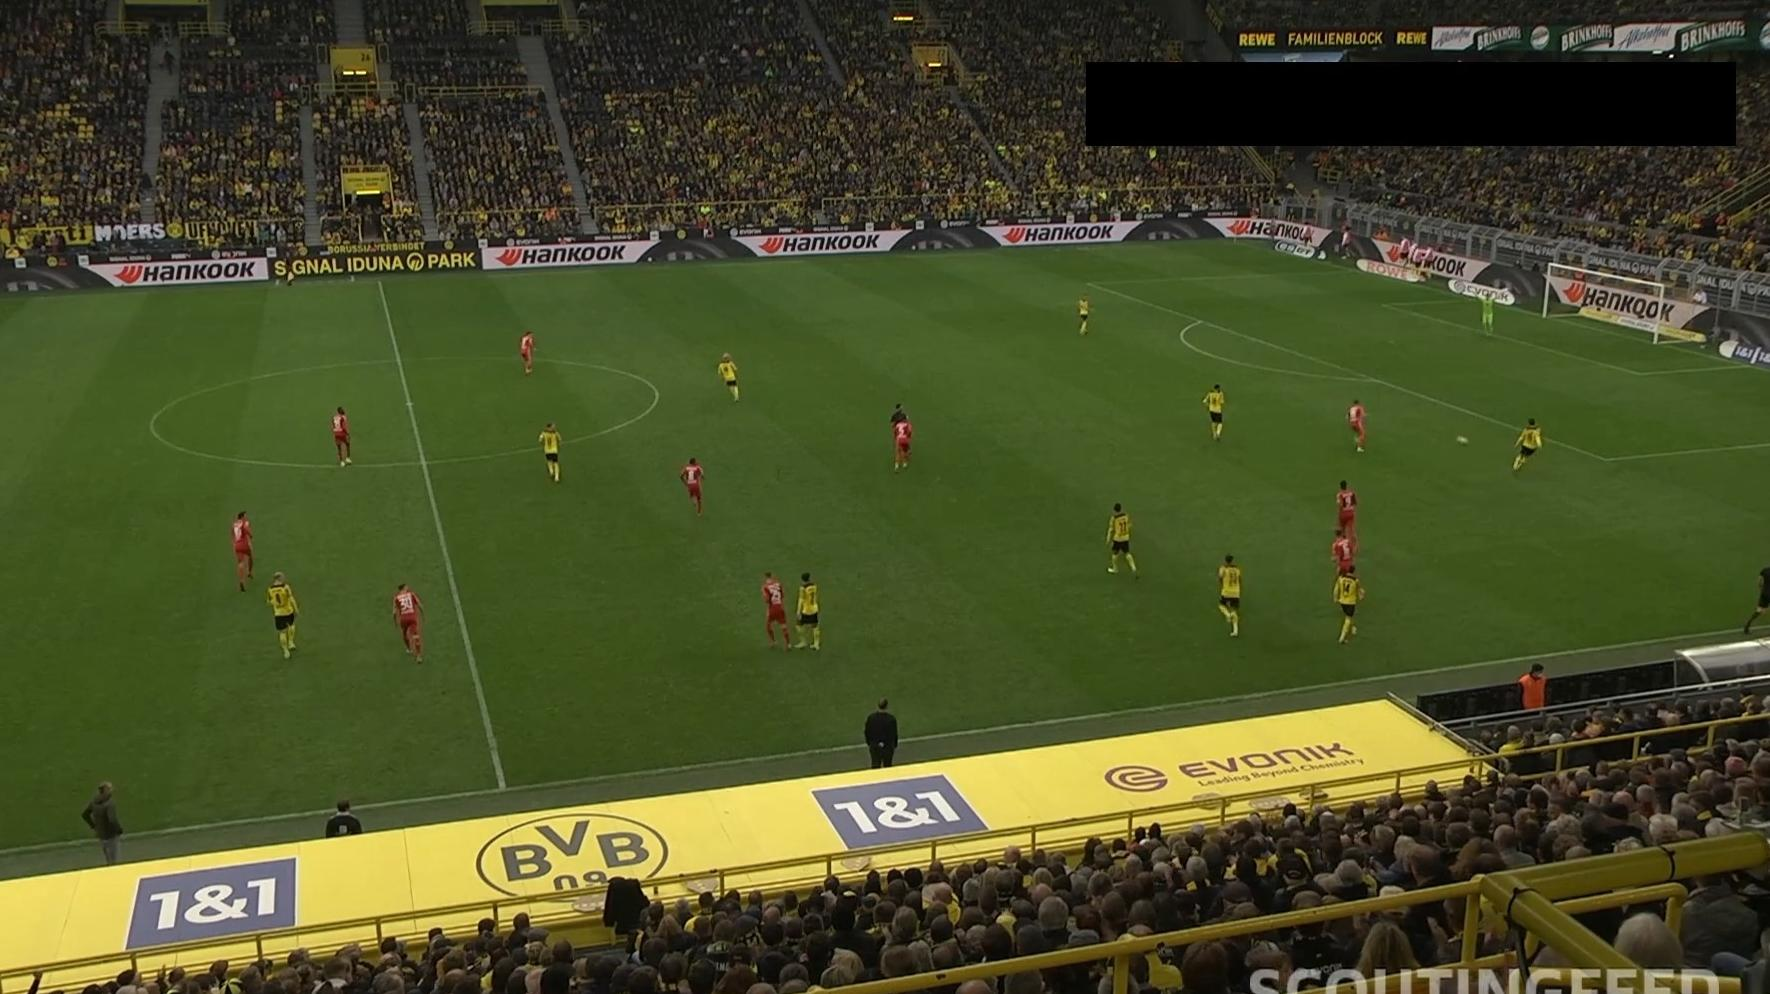ball: (1455, 434, 1470, 446)
